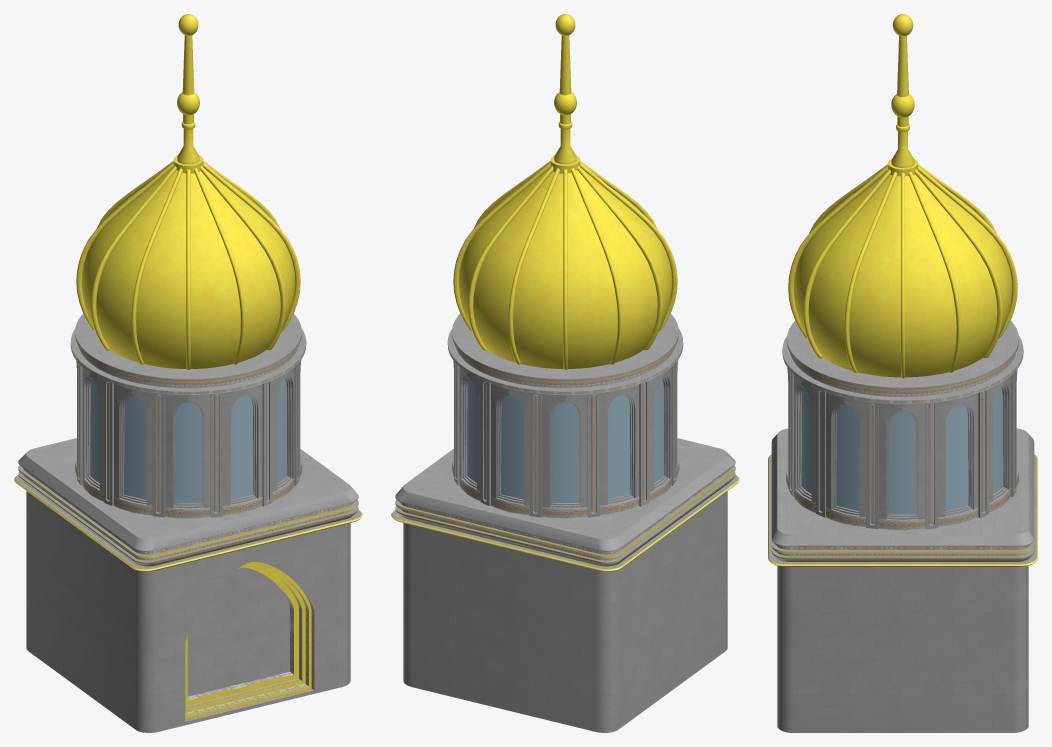
The model's file is SM_building.glb.
3 renders of one model, left to right at view 1: azimuth 30°, elevation 25°; view 2: azimuth 150°, elevation 25°; view 3: azimuth 270°, elevation 25°, orthographic. The views are drawn at different scales.
Visible parts, largest first — view 1: SM_building; view 2: SM_building; view 3: SM_building.
Boxes of the visible parts, <box> form: SM_building: <box>14,14,362,732</box>; SM_building: <box>391,14,739,732</box>; SM_building: <box>768,14,1037,732</box>.
Size of the model in its own units: 10.44 by 28.32 by 10.41.
4 materials, 3 textured.
